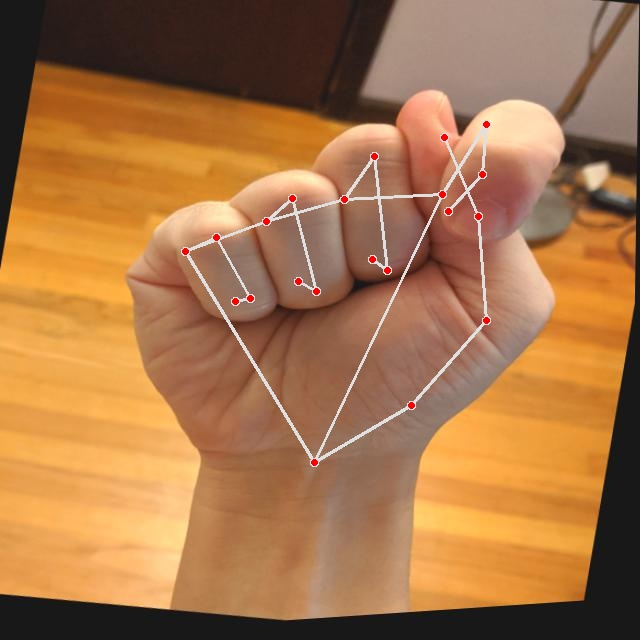T: (80, 30, 607, 539)
